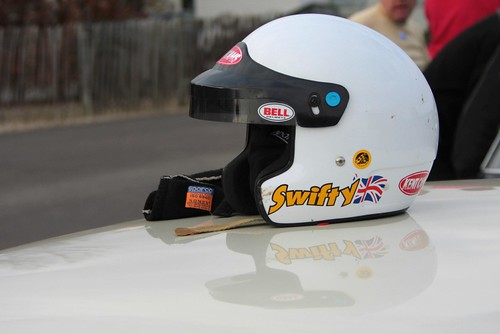helmet: (182, 5, 440, 222)
